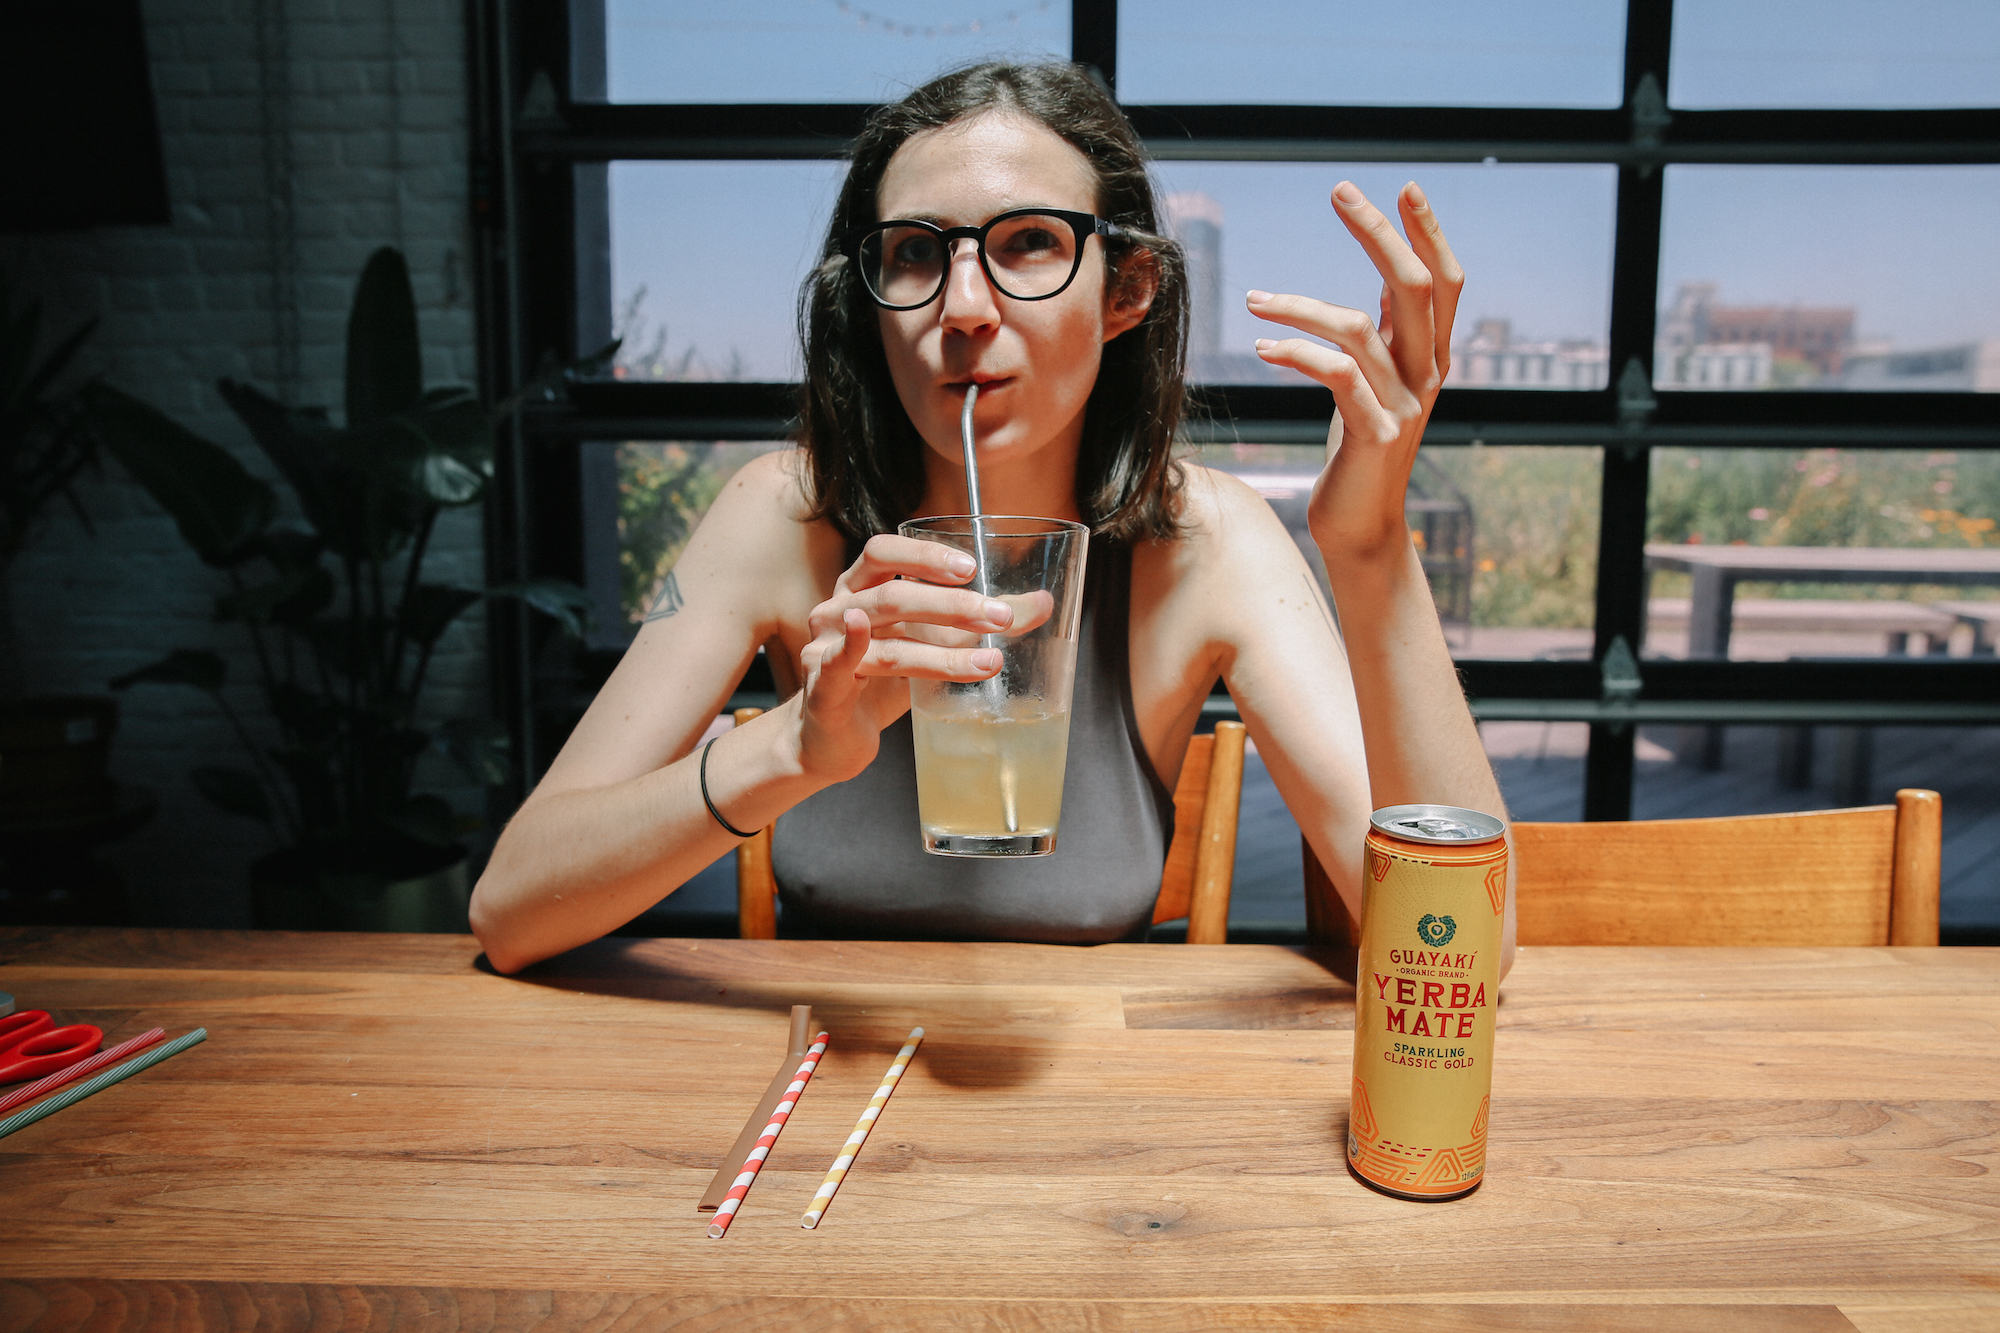drinking: (584, 65, 1435, 989)
